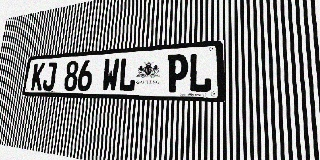6: (77, 60, 94, 91)
8: (63, 60, 80, 91)
J: (42, 62, 57, 91)
K: (31, 63, 45, 91)
L: (188, 52, 212, 93), (118, 57, 137, 92)
P: (166, 53, 188, 92)
W: (101, 58, 120, 92)
